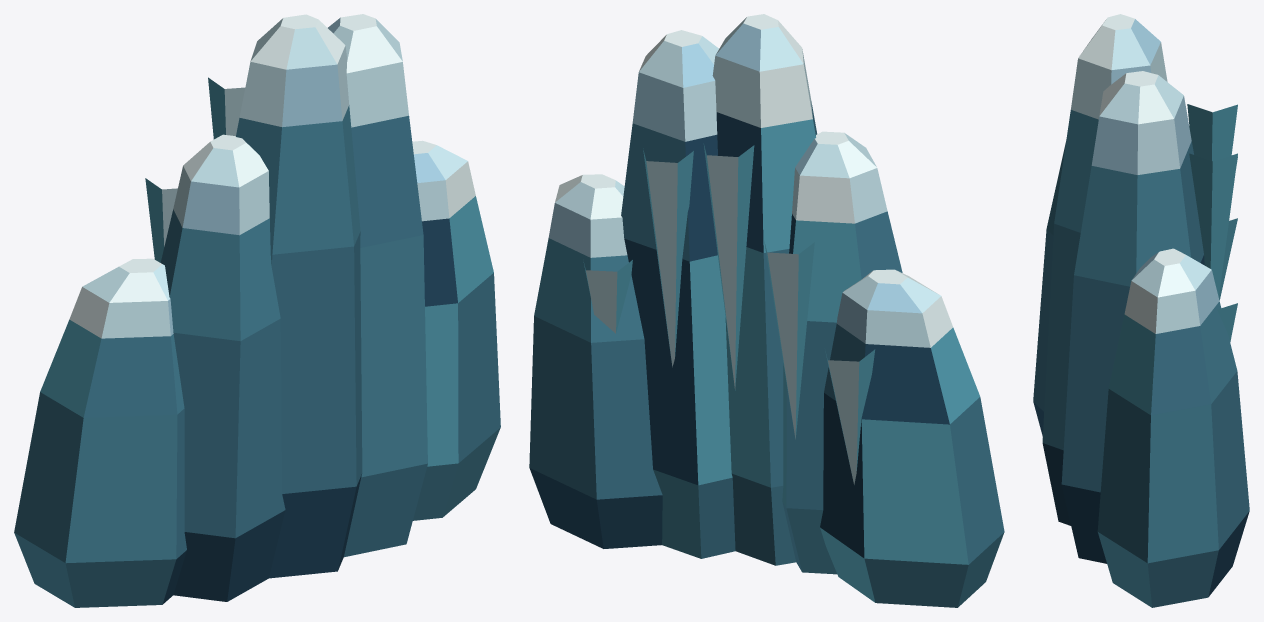
The model's file is icefall.glb.
3 renders of one model, left to right at view 1: azimuth 30°, elevation 25°; view 2: azimuth 150°, elevation 25°; view 3: azimuth 270°, elevation 25°, orthographic. The views are drawn at different scales.
Parts seen in each view (by area): view 1: icefall; view 2: icefall; view 3: icefall.
Boxes of the visible parts, x1,y1,x2,y2 form: icefall: (14,14,500,607); icefall: (529,14,1004,607); icefall: (1033,14,1249,607).
Bounding box in the file's own units: 3.8 × 4.1 × 1.62.
